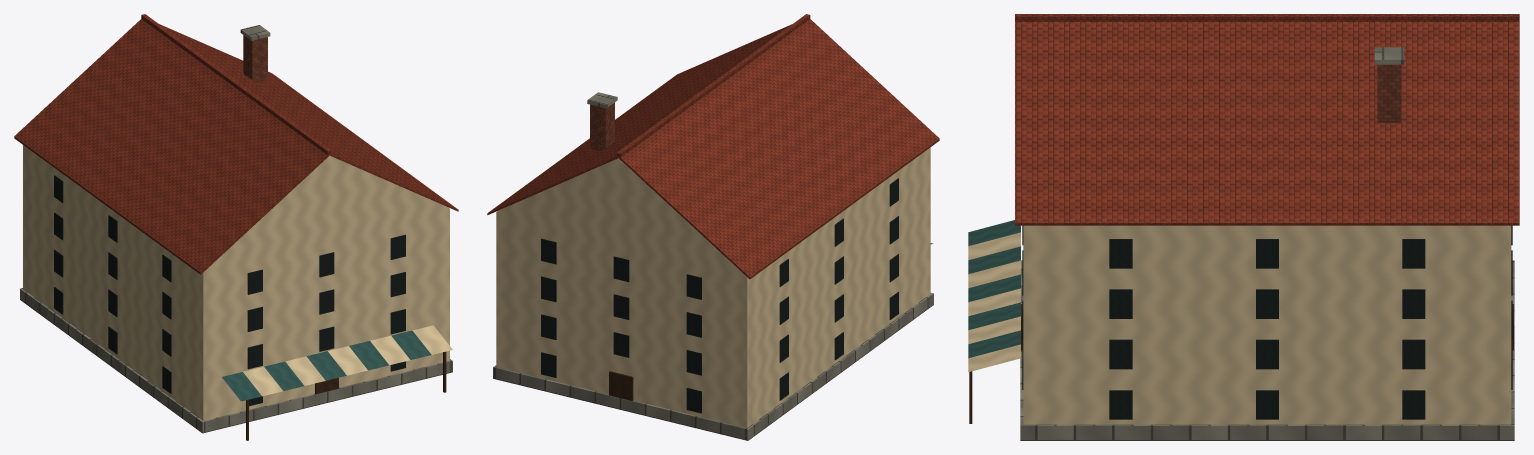
Rendered from SG_Warehouse_LOD2.fbx.
The picture shows the model from 3 angles, left to right: view 1: azimuth 30°, elevation 25°; view 2: azimuth 150°, elevation 25°; view 3: azimuth 270°, elevation 25°; orthographic projection. The views are drawn at different scales.
Parts seen in each view (by area): view 1: SG_Warehouse_Detail2; view 2: SG_Warehouse_Detail2; view 3: SG_Warehouse_Detail2.
Boxes of the visible parts, x1=… form: SG_Warehouse_Detail2: x1=14, y1=14, x2=458, y2=440; SG_Warehouse_Detail2: x1=487, y1=14, x2=939, y2=440; SG_Warehouse_Detail2: x1=968, y1=14, x2=1519, y2=440.
Size of the model in its own units: 31.4 by 29.8 by 42.95.
